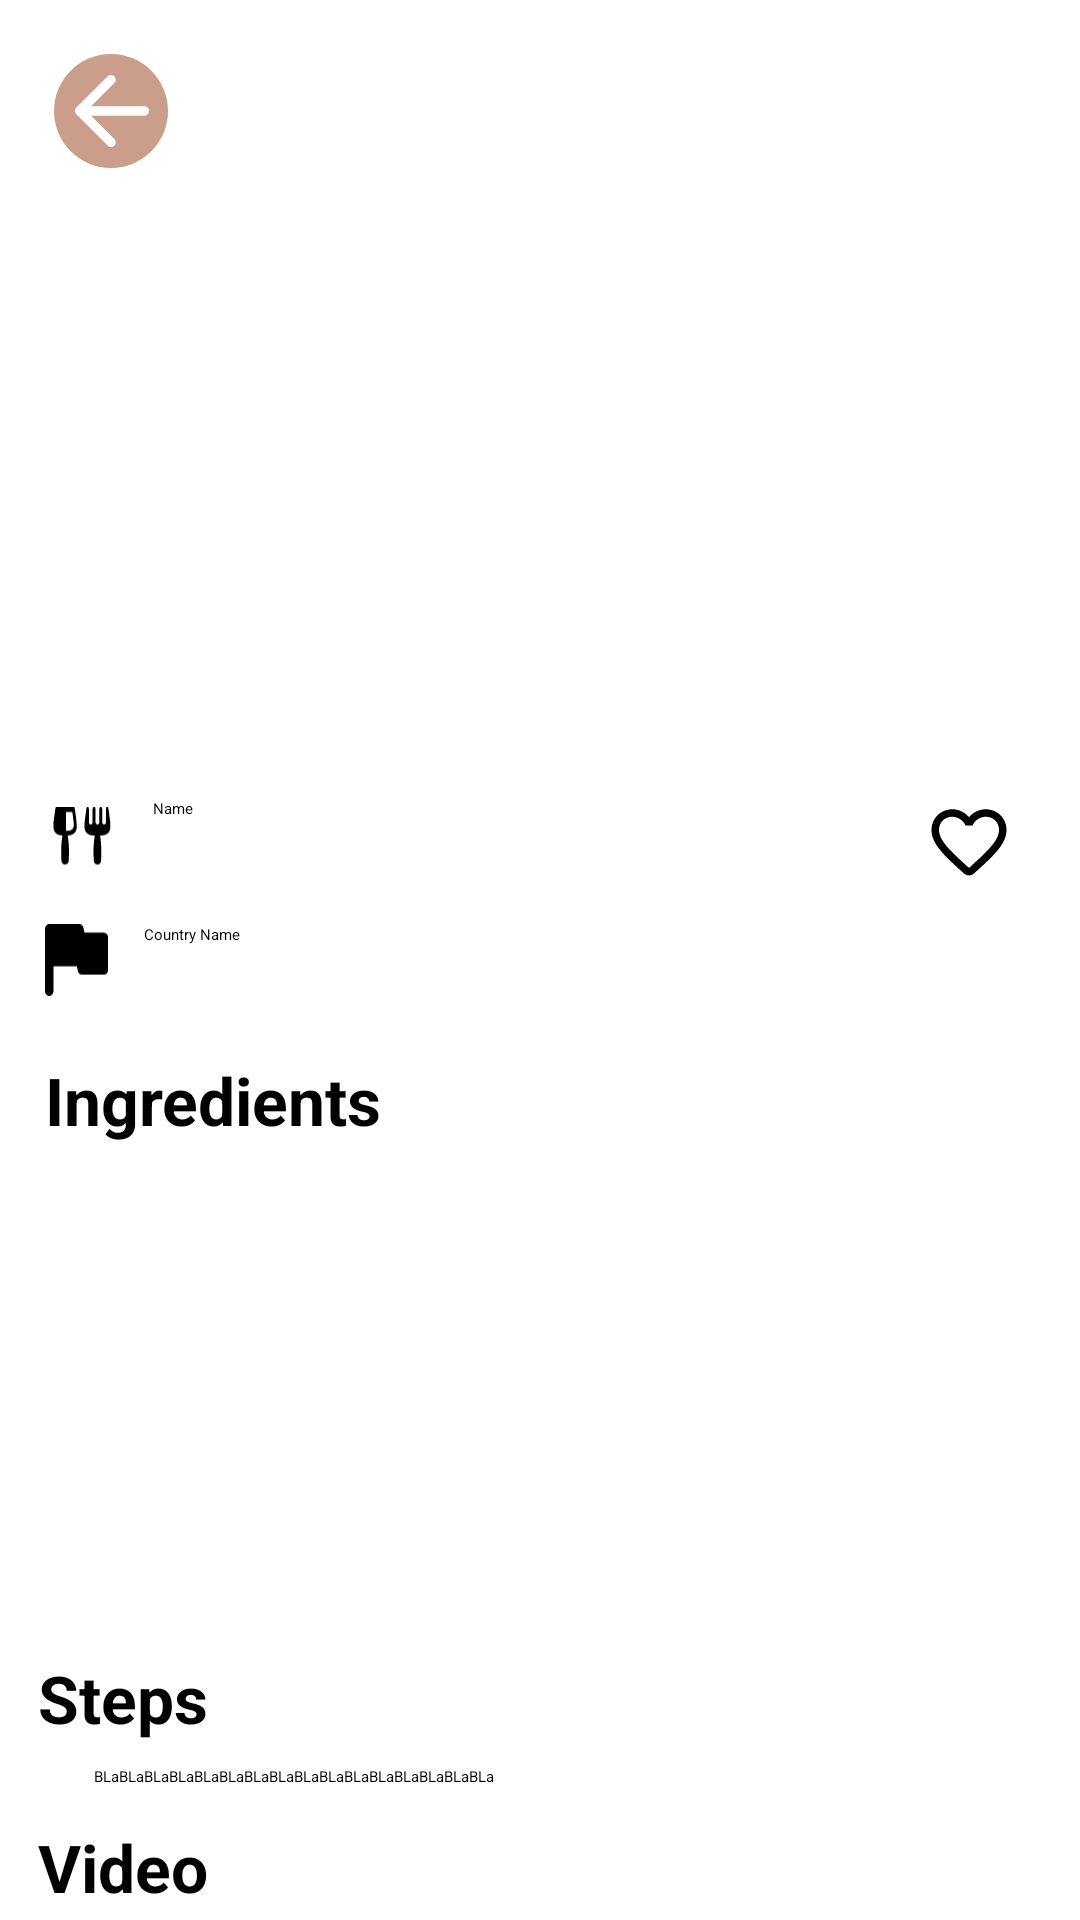

Named icons in this screenshot (1080x1920) and their centers, (x=x, y=y):
back arrow: (x=111, y=111)
favorite: (x=969, y=842)
flag: (x=76, y=960)
fork knife: (x=82, y=836)
